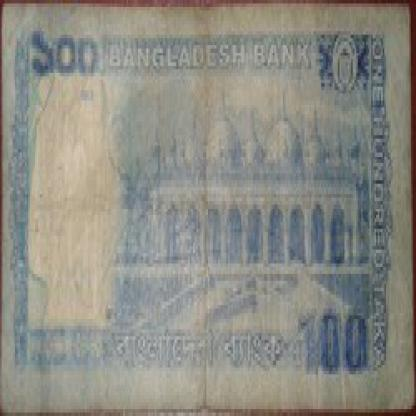one hundred taka: (296, 301, 373, 378), (25, 24, 105, 83)
